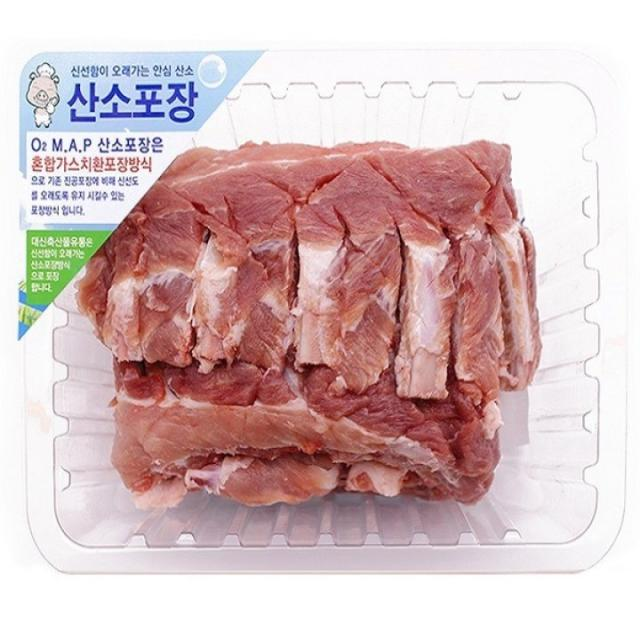pork: (18, 43, 593, 587)
